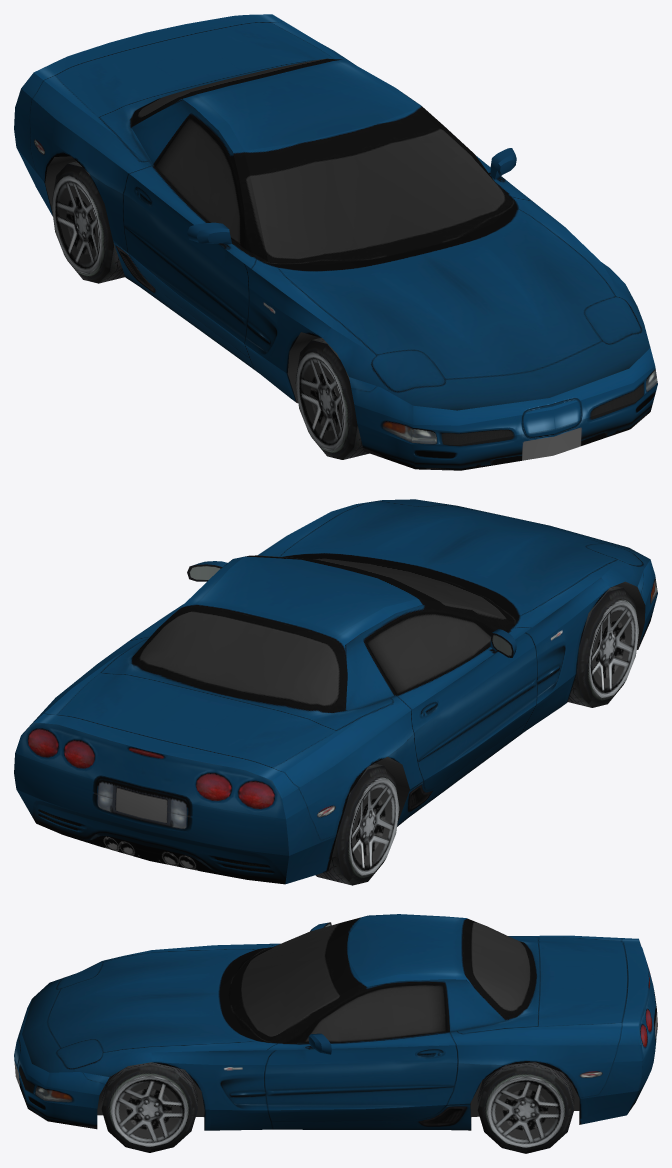
The model's file is corvette__low_poly.glb.
3 renders of one model, top to bottom at view 1: azimuth 30°, elevation 25°; view 2: azimuth 150°, elevation 25°; view 3: azimuth 270°, elevation 25°, orthographic. The views are drawn at different scales.
Visible parts, largest first — view 1: Body_Body_0, Wheel_BR_WheelColor_0, Wheel_FR_WheelColor_0, Wheel_BR_Body_0, Wheel_FR_Body_0; view 2: Body_Body_0, Wheel_BR_WheelColor_0, Wheel_FR_WheelColor_0, Wheel_BR_Body_0, Wheel_FR_Body_0; view 3: Body_Body_0, Wheel_BL_WheelColor_0, Wheel_FL_WheelColor_0, Wheel_BL_Body_0, Wheel_FL_Body_0.
Boxes of the visible parts, x1=… form: Body_Body_0: x1=14, y1=14, x2=657, y2=470; Wheel_BR_WheelColor_0: x1=51, y1=176, x2=101, y2=273; Wheel_FR_WheelColor_0: x1=295, y1=353, x2=345, y2=450; Wheel_BR_Body_0: x1=51, y1=161, x2=124, y2=283; Wheel_FR_Body_0: x1=295, y1=338, x2=369, y2=459; Body_Body_0: x1=14, y1=499, x2=657, y2=884; Wheel_BR_WheelColor_0: x1=349, y1=778, x2=399, y2=875; Wheel_FR_WheelColor_0: x1=589, y1=600, x2=638, y2=698; Wheel_BR_Body_0: x1=315, y1=763, x2=399, y2=885; Wheel_FR_Body_0: x1=568, y1=586, x2=638, y2=707; Body_Body_0: x1=14, y1=914, x2=657, y2=1130; Wheel_BL_WheelColor_0: x1=487, y1=1077, x2=564, y2=1147; Wheel_FL_WheelColor_0: x1=110, y1=1076, x2=188, y2=1147; Wheel_BL_Body_0: x1=477, y1=1062, x2=574, y2=1153; Wheel_FL_Body_0: x1=101, y1=1062, x2=197, y2=1152.
Size of the model in its own units: 2.21 by 1.31 by 4.86.
2 materials, 2 textured.
